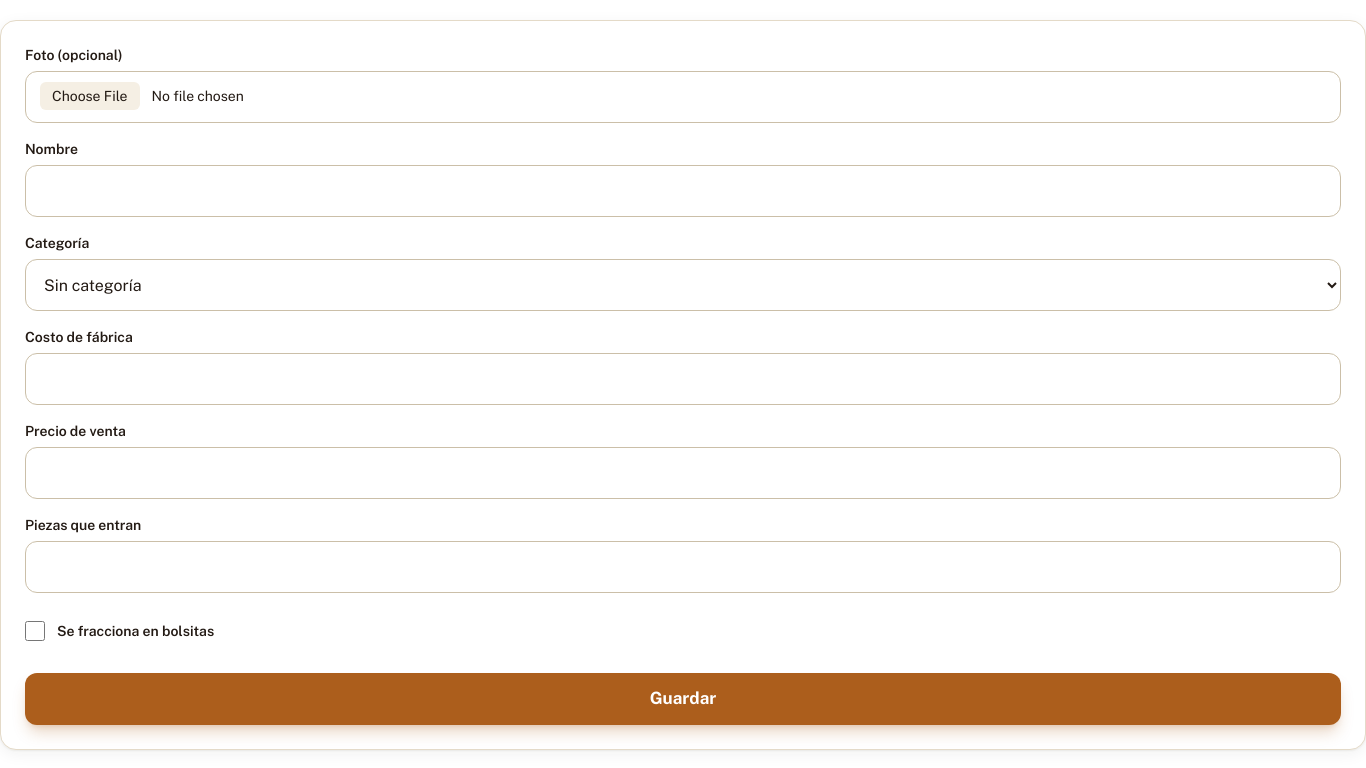
Test: ProductFormComponent › en alta › piezas con decimales marca error y enfoca piezas
The image size is (1366, 768).
Type "Creatina" into the field with id "name" at [683, 191], box [25,165,1341,217]
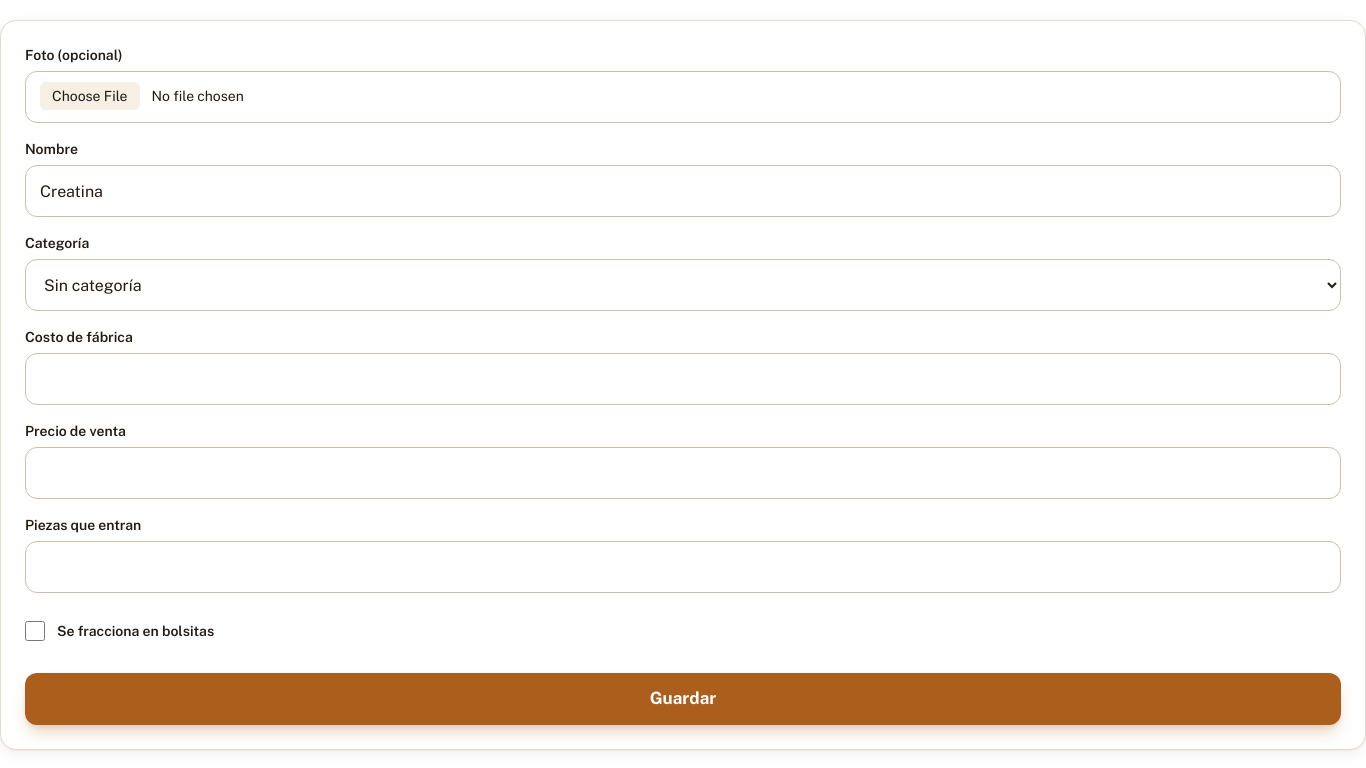
Type "100" into the field with id "unit-cost" at [683, 379], box [25,353,1341,405]
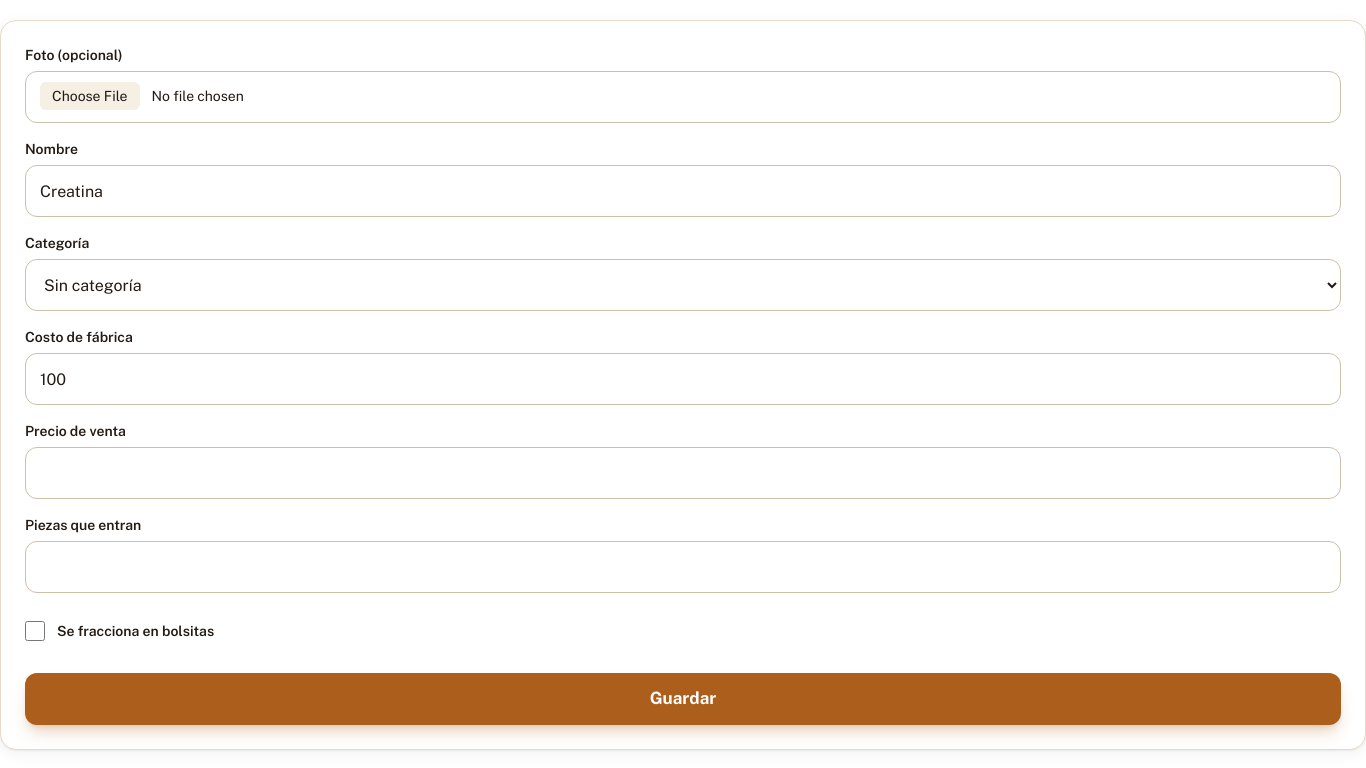
Type "200" into the field labelled "Precio de venta" at [683, 473], box [25,447,1341,499]
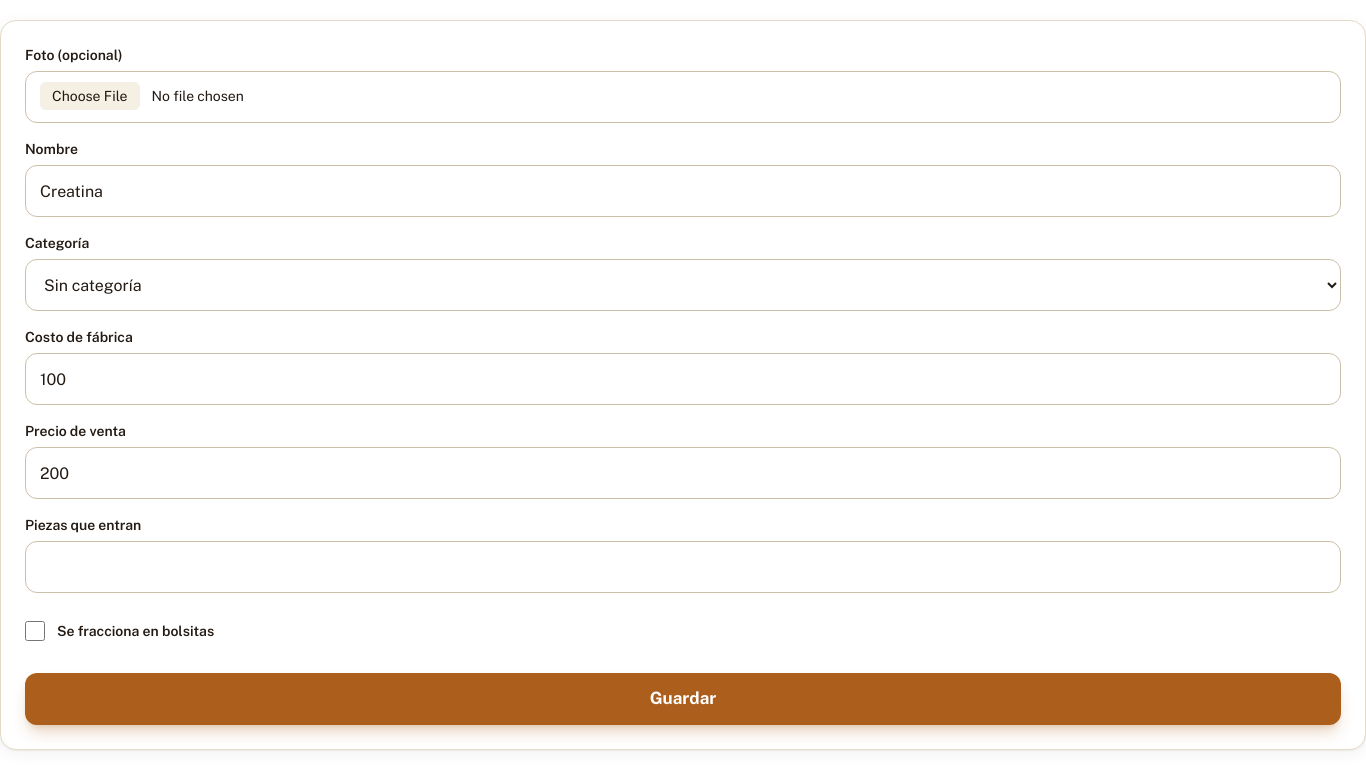
Type "2.5" into the number field with id "units" at [683, 567], box [25,541,1341,593]
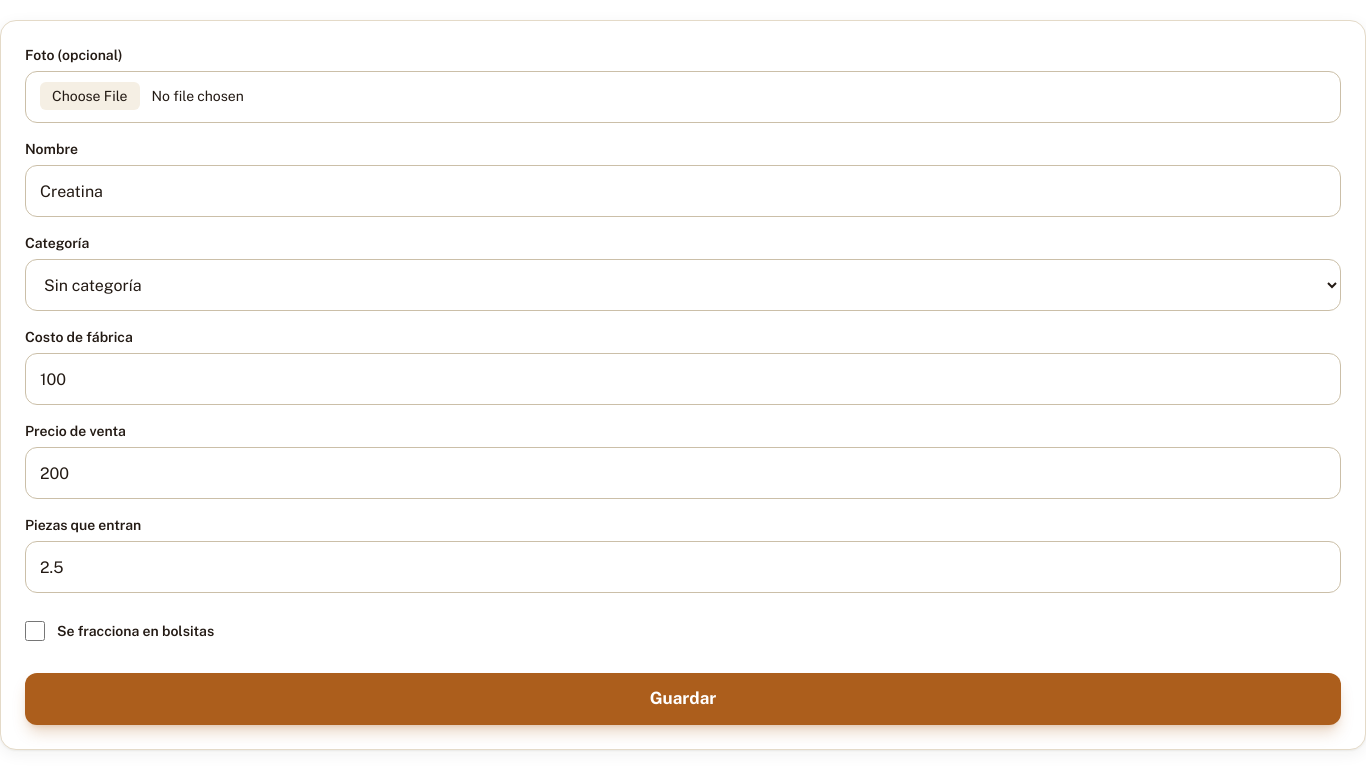
Submit the form
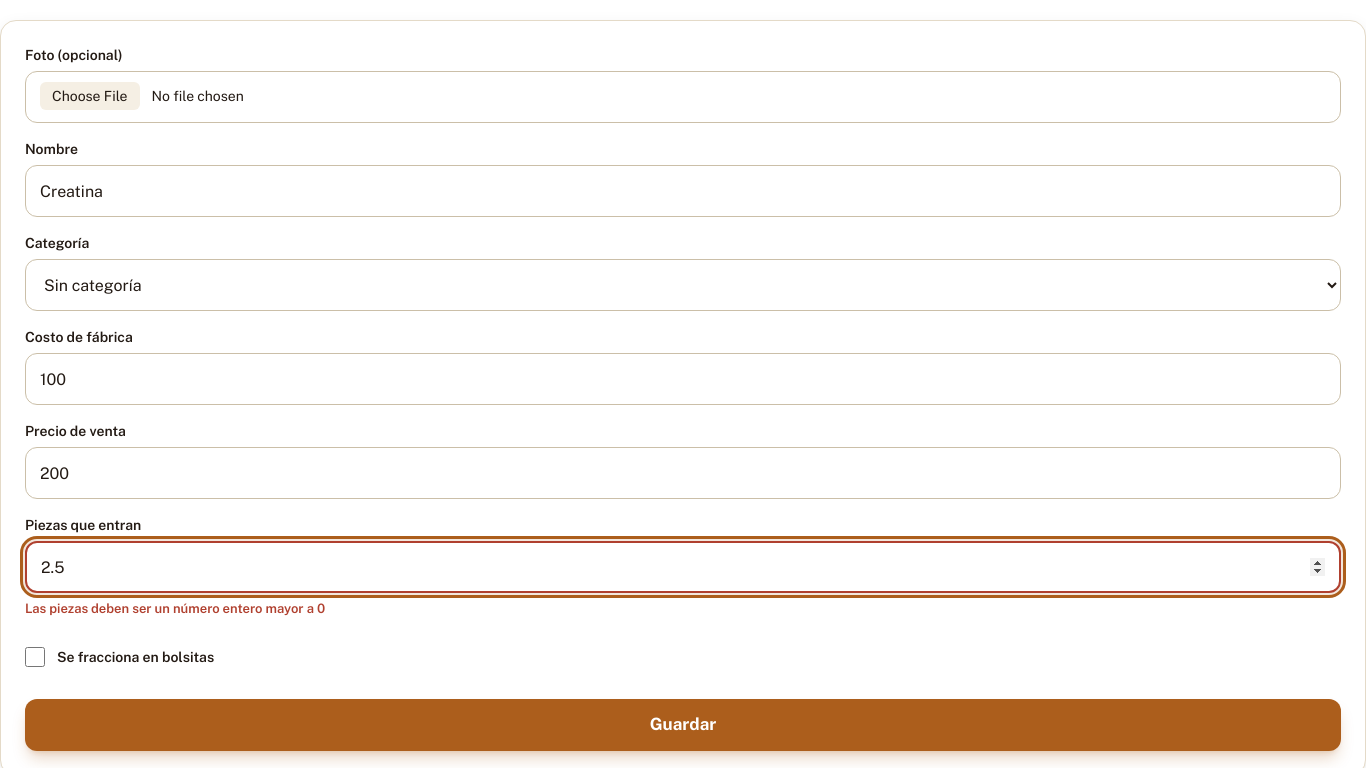
Result: the text "número entero" is shown at [25,601,325,616]
